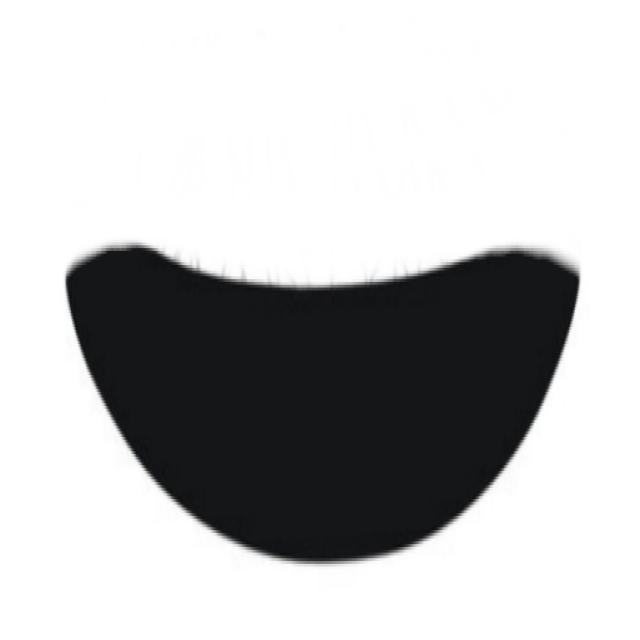paraglider: (65, 237, 580, 561)
